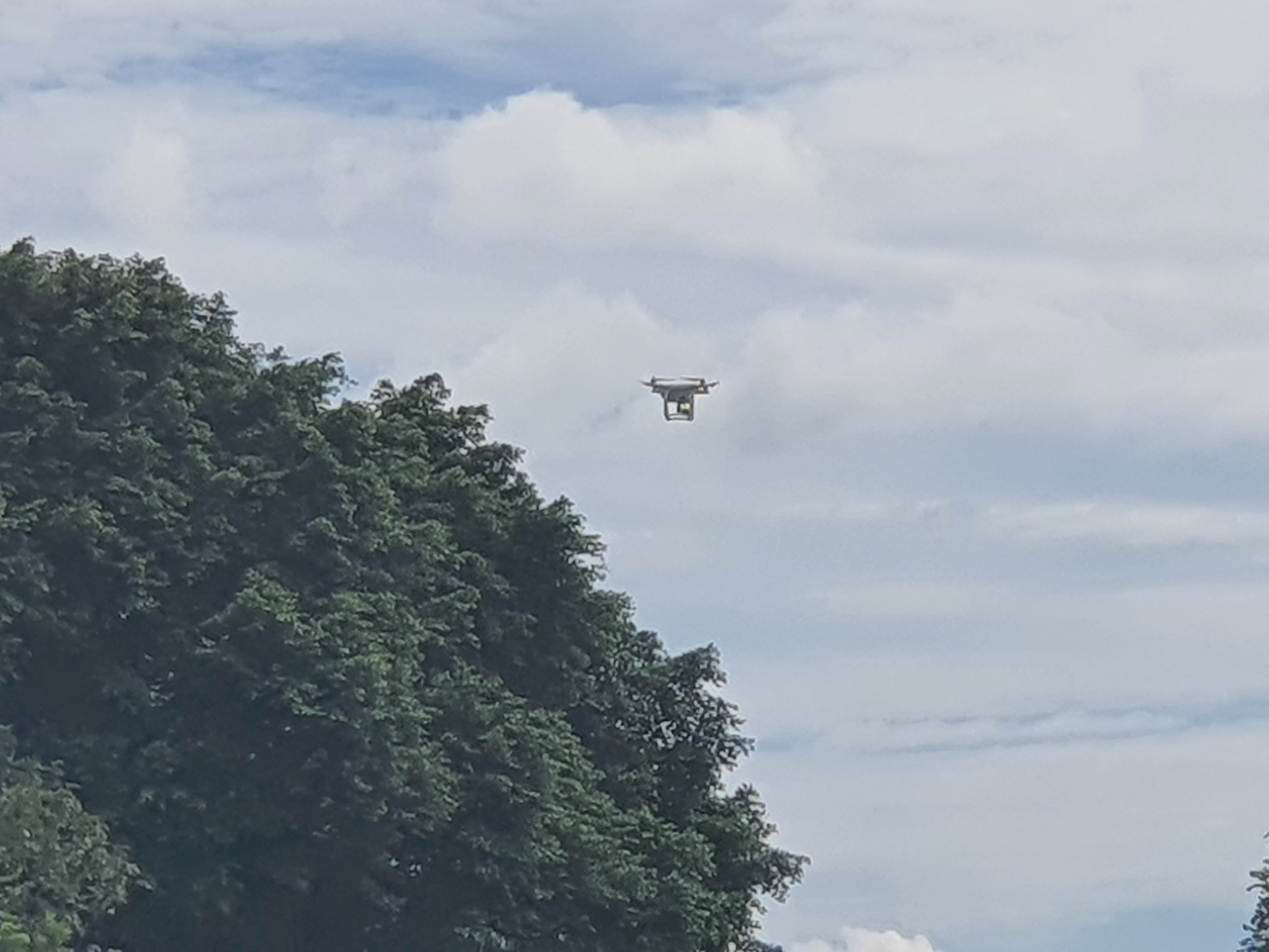drone_other: (636, 373, 723, 425)
